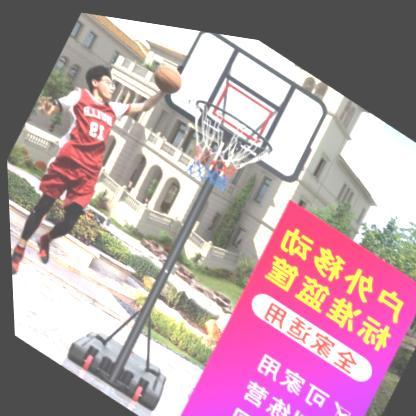basketball: (148, 52, 187, 96)
rim: (161, 81, 275, 206)
